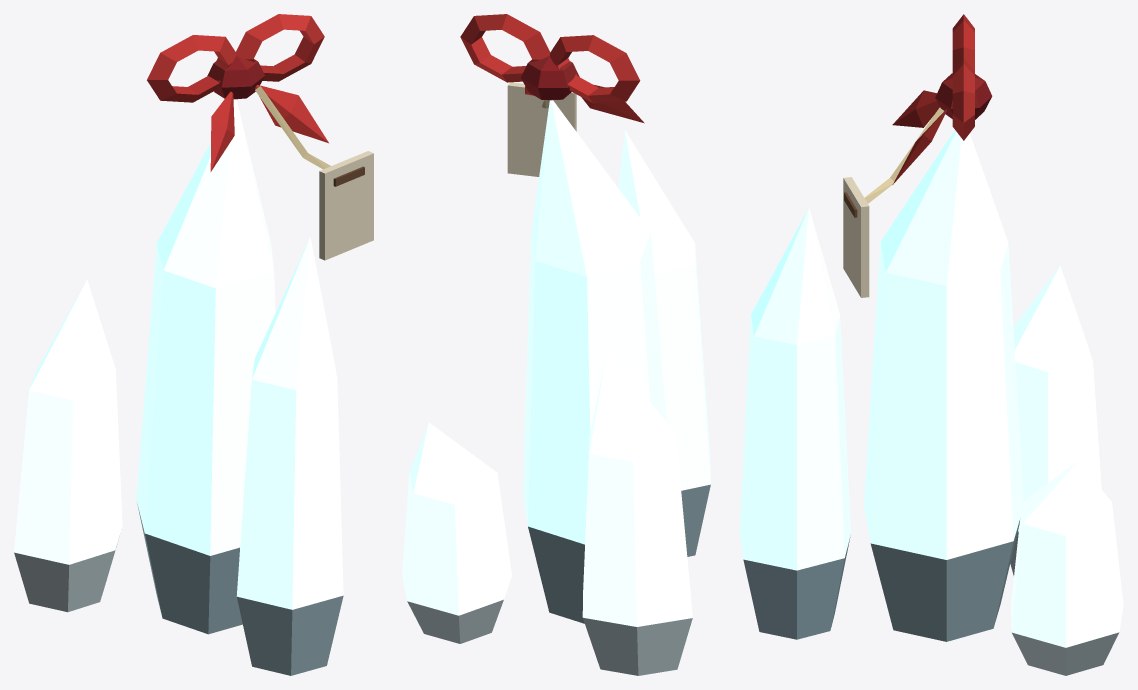
Rendered from quest_ice_heart.glb.
The picture shows the model from 3 angles, left to right: view 1: azimuth 30°, elevation 25°; view 2: azimuth 150°, elevation 25°; view 3: azimuth 270°, elevation 25°; orthographic projection. The views are drawn at different scales.
Parts seen in each view (by area): view 1: quest_ice_heart; view 2: quest_ice_heart; view 3: quest_ice_heart.
Part boxes in pixels (bbox=[...]): quest_ice_heart: bbox=[14, 14, 373, 675]; quest_ice_heart: bbox=[402, 14, 710, 675]; quest_ice_heart: bbox=[739, 14, 1123, 675].
Size of the model in its own units: 0.2352 by 0.4573 by 0.2684.
